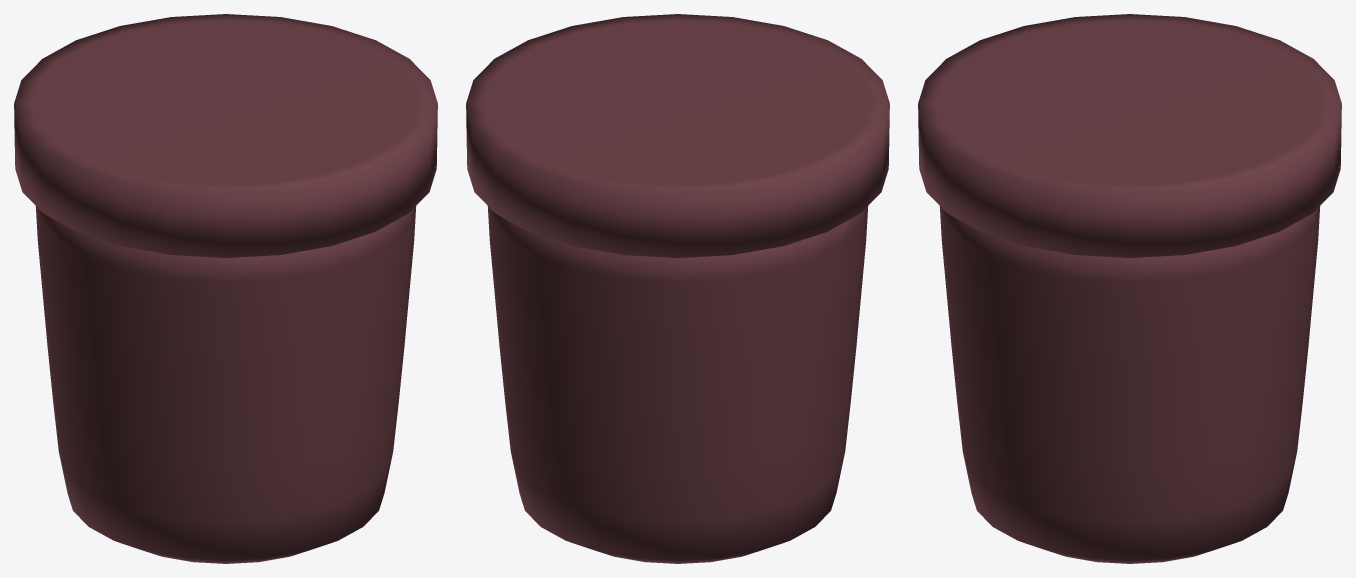
File: GelatoNocciola250g.fbx
3 renders of one model, left to right at view 1: azimuth 30°, elevation 25°; view 2: azimuth 150°, elevation 25°; view 3: azimuth 270°, elevation 25°, orthographic.
Visible parts, largest first — view 1: GelatoBox.002; view 2: GelatoBox.002; view 3: GelatoBox.002.
Part boxes in pixels (box(x1,y1,x2,y2)): GelatoBox.002: box(14, 14, 437, 563); GelatoBox.002: box(466, 14, 889, 563); GelatoBox.002: box(918, 14, 1341, 563).
Bounding box in the file's own units: 283 × 299 × 283.
